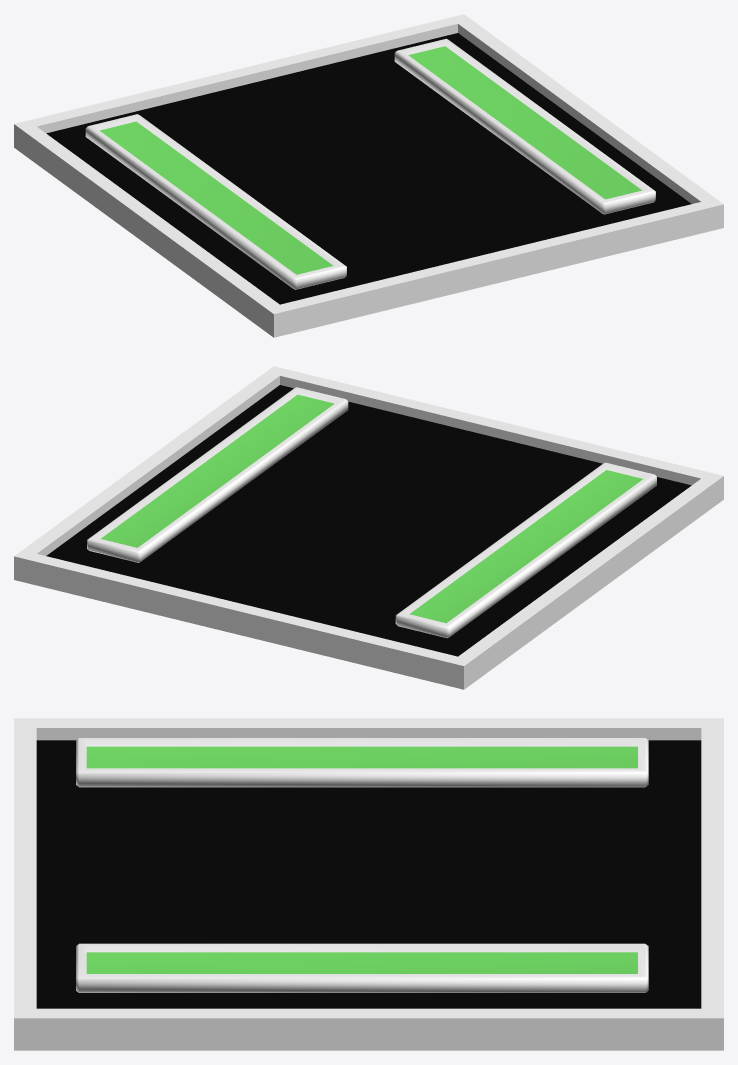
The model's file is SM_Garden_05.fbx.
3 views of the same model, one above another, from view 1: azimuth 30°, elevation 25°; view 2: azimuth 150°, elevation 25°; view 3: azimuth 270°, elevation 25° (orthographic). The views are drawn at different scales.
Parts seen in each view (by area): view 1: SM_Garden_05; view 2: SM_Garden_05; view 3: SM_Garden_05.
Part boxes in pixels (x1,y1,x2,y2): SM_Garden_05: [14, 14, 723, 337]; SM_Garden_05: [14, 366, 723, 689]; SM_Garden_05: [14, 718, 723, 1050].
Bounding box in the file's own units: 1697 × 113 × 1697.
